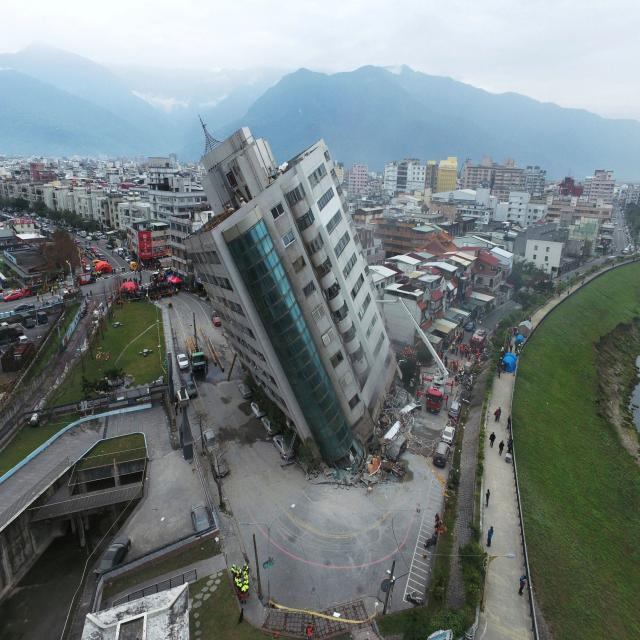collapsed_building: (195, 112, 413, 491)
